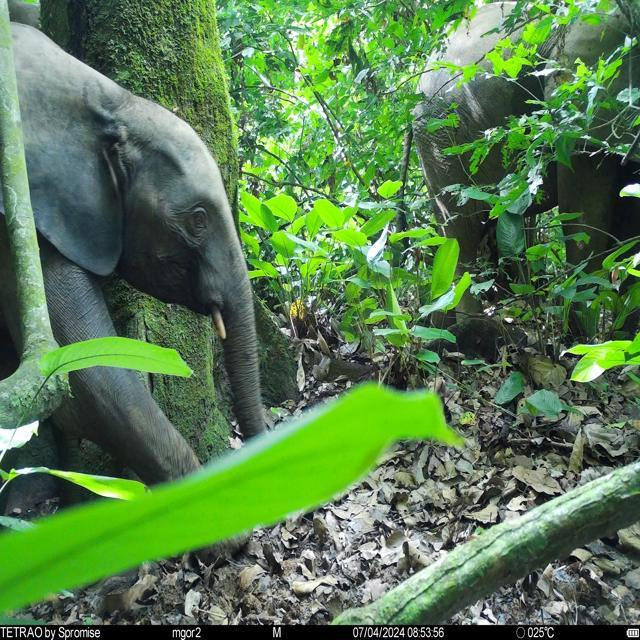ear: (10, 22, 126, 280)
elephant: (0, 22, 274, 572), (393, 1, 640, 340)
tusk: (210, 306, 228, 342)
